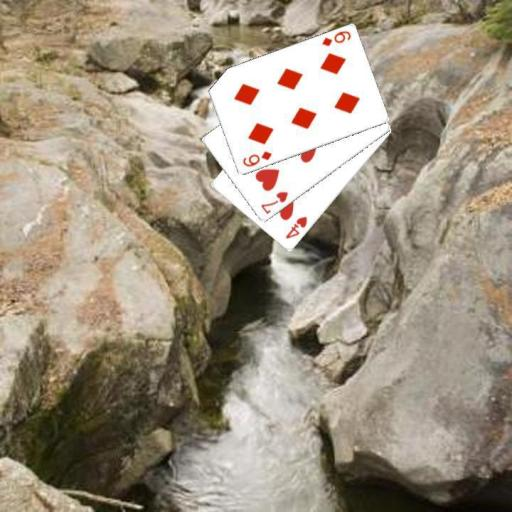card-corner: (258, 189, 290, 216), (282, 213, 309, 241), (240, 148, 273, 168), (319, 28, 352, 48)
